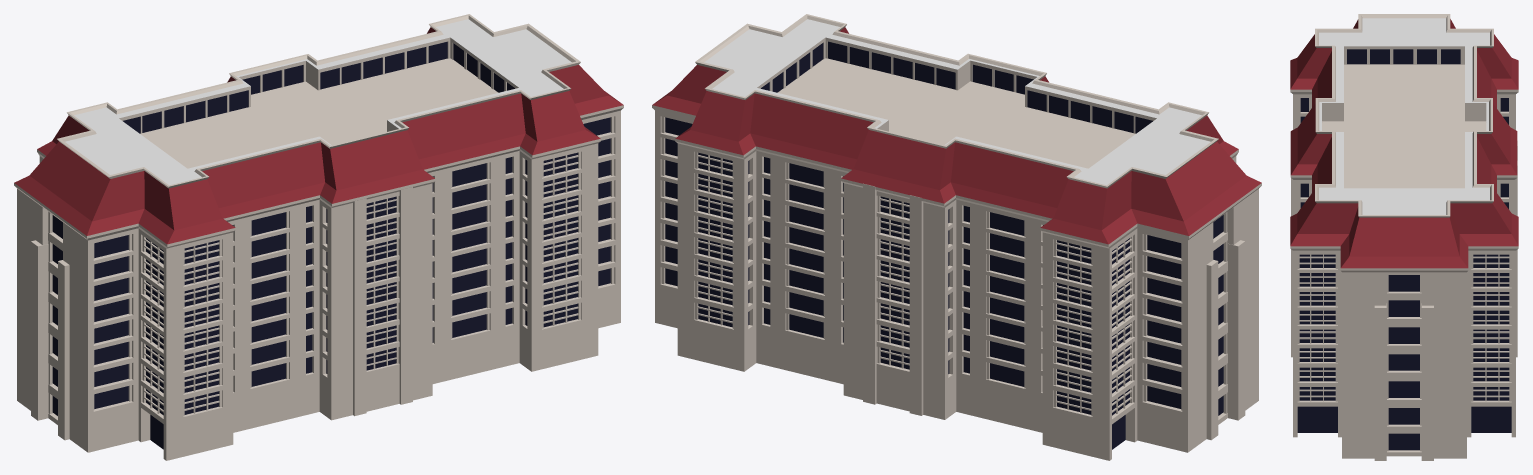
The model's file is CPB.fbx.
3 renders of one model, left to right at view 1: azimuth 30°, elevation 25°; view 2: azimuth 150°, elevation 25°; view 3: azimuth 270°, elevation 25°, orthographic. The views are drawn at different scales.
Parts seen in each view (by area): view 1: Cube.012; view 2: Cube.012; view 3: Cube.012.
Boxes of the visible parts, x1,y1,x2,y2 form: Cube.012: (14,14,623,460); Cube.012: (652,14,1261,460); Cube.012: (1290,14,1518,460).
Size of the model in its own units: 6774 by 3117 by 2813.
